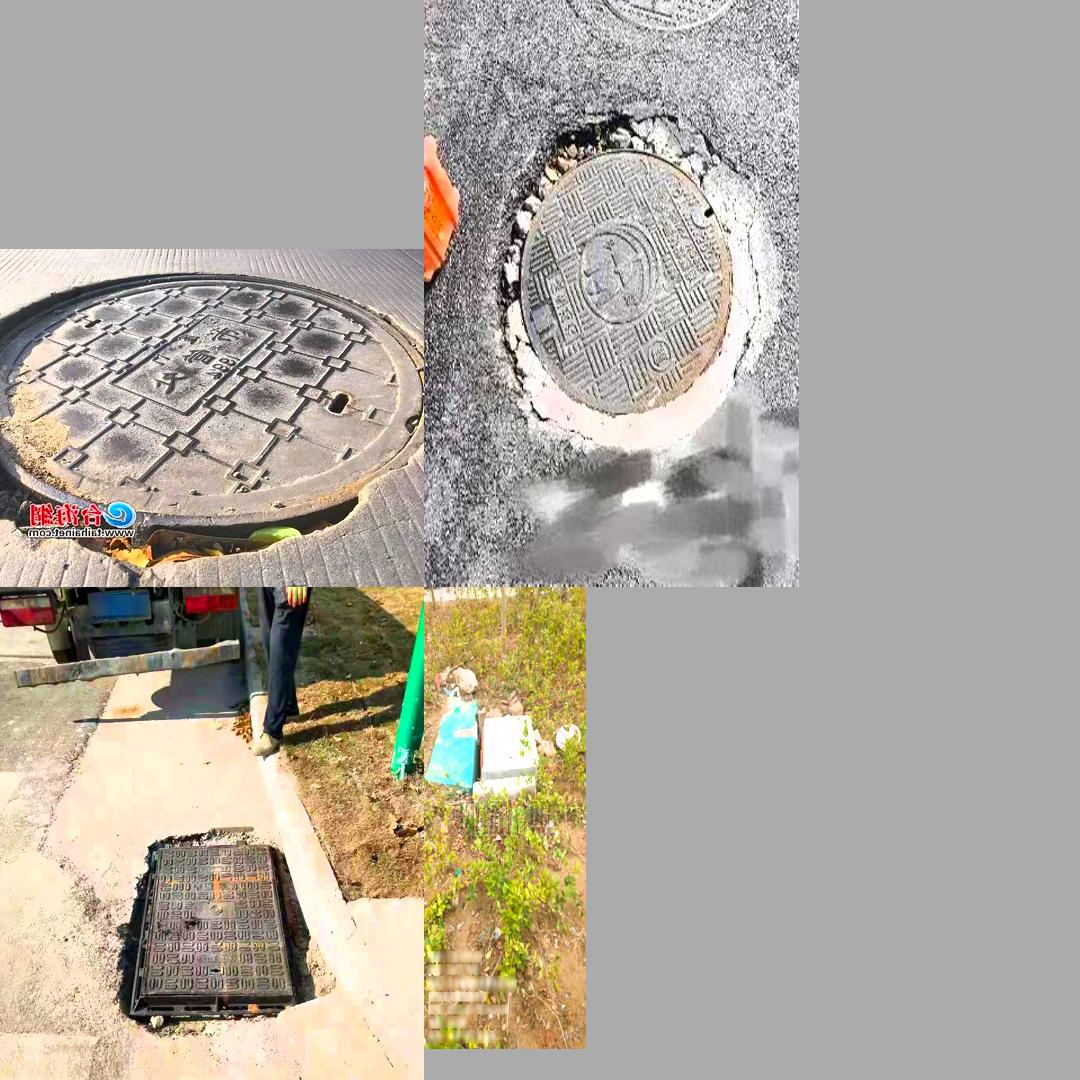circle: (0, 270, 411, 572), (498, 114, 775, 466), (116, 835, 318, 1030), (471, 709, 543, 793)
good: (590, 0, 748, 32)
